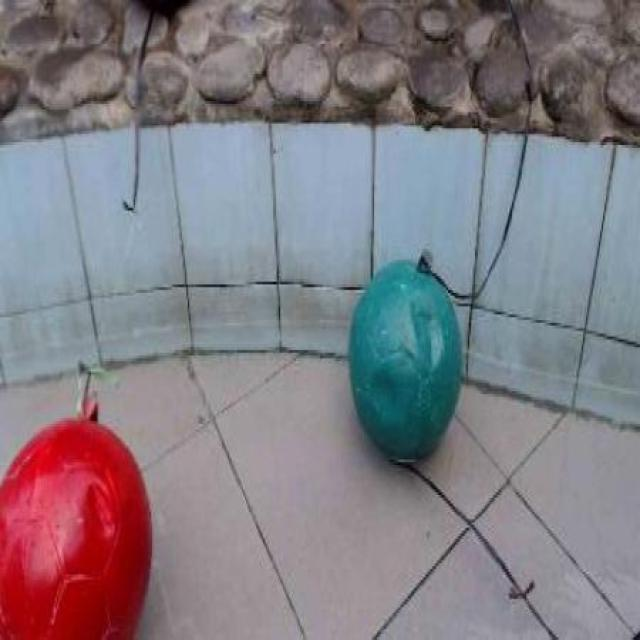buoy: (1, 418, 153, 637), (347, 258, 462, 460)
